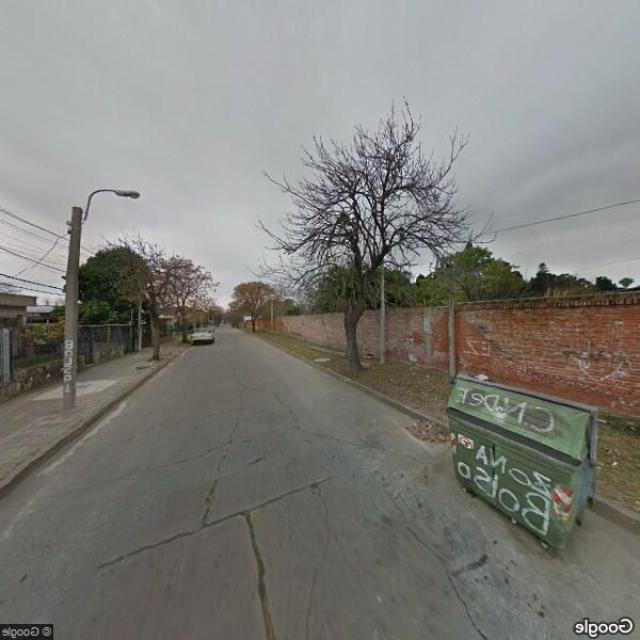garbage container: (428, 370, 612, 560)
